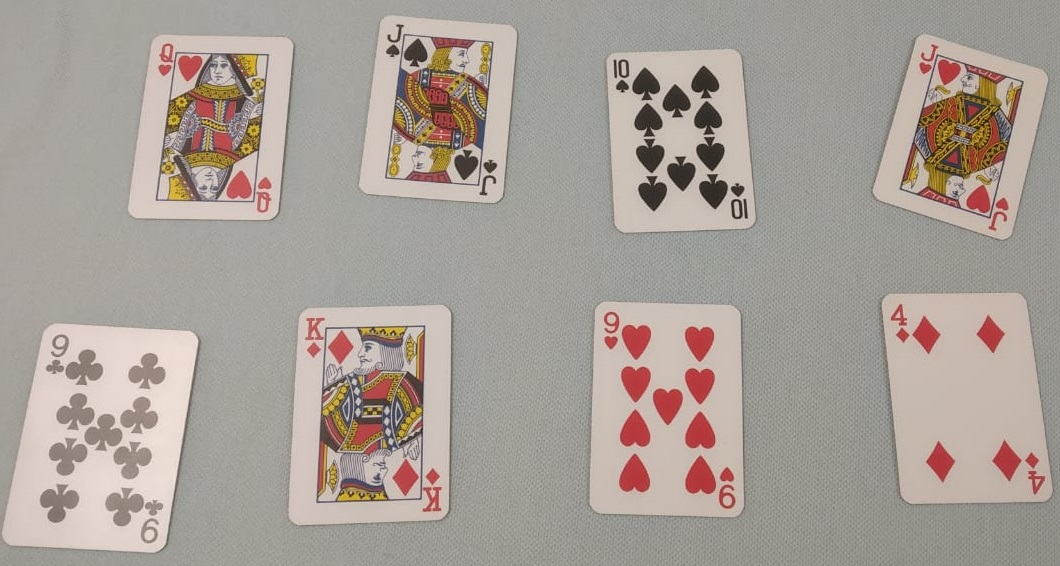four: (857, 275, 1060, 513)
jack: (862, 23, 1050, 254), (360, 1, 520, 220)
king: (266, 285, 484, 547)
nine: (571, 281, 773, 547), (1, 309, 194, 557)
queen: (113, 26, 304, 242)
ten: (595, 25, 769, 253)
